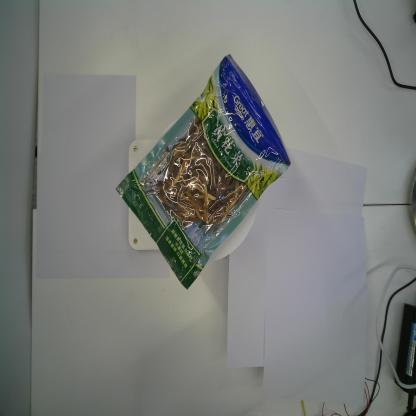Dried Food: (114, 52, 292, 292)
